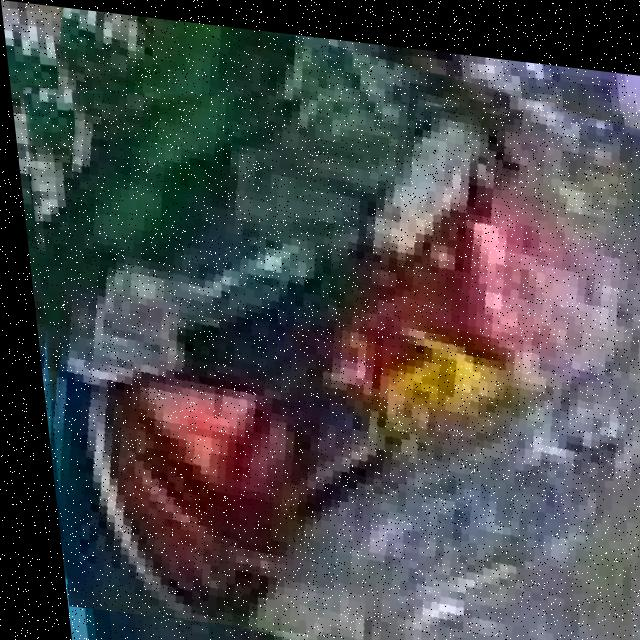can: (44, 95, 640, 631)
